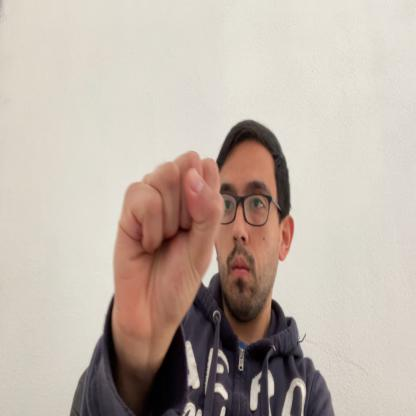S: (115, 148, 225, 358)
